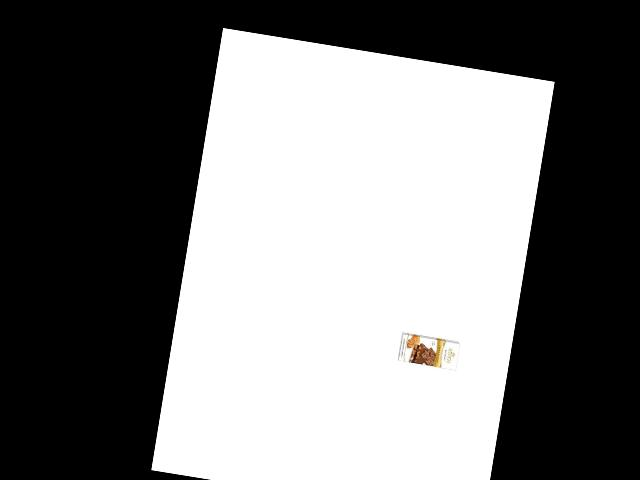chocolate: (395, 330, 462, 371)
